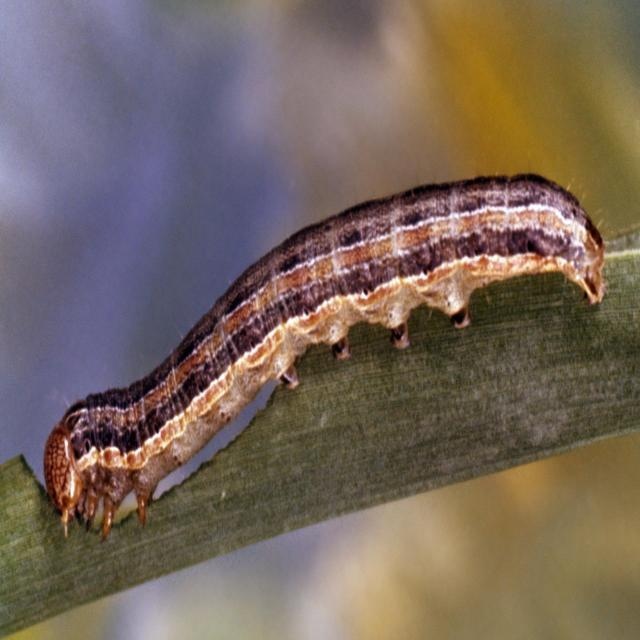army worm: (35, 159, 615, 542)
